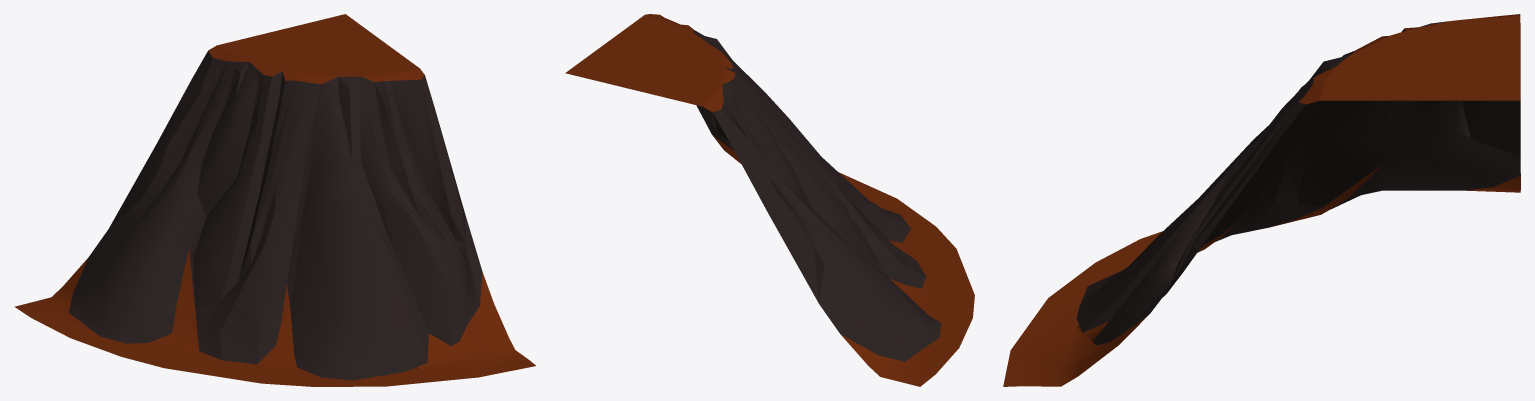
Rendered from SM_Eroded_Cliff_Turn.fbx.
3 renders of one model, left to right at view 1: azimuth 30°, elevation 25°; view 2: azimuth 150°, elevation 25°; view 3: azimuth 270°, elevation 25°, orthographic. The views are drawn at different scales.
Parts seen in each view (by area): view 1: Group60034; view 2: Group60034; view 3: Group60034.
Boxes of the visible parts, x1,y1,x2,y2 form: Group60034: [14, 14, 535, 386]; Group60034: [565, 14, 974, 386]; Group60034: [1003, 14, 1520, 386].
Bounding box in the file's own units: 258 × 158 × 258.
